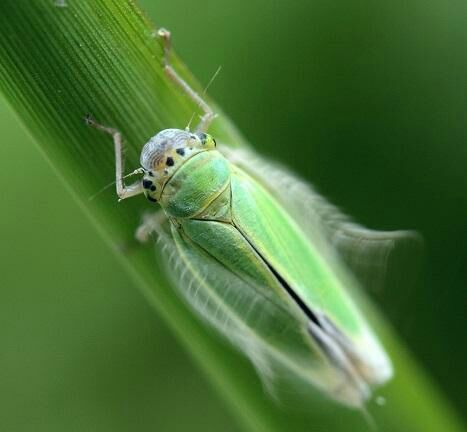Cicadellidae: (81, 63, 394, 410)
